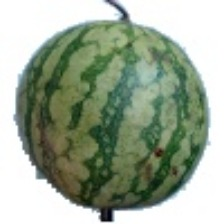watermelon: (7, 58, 177, 196)
